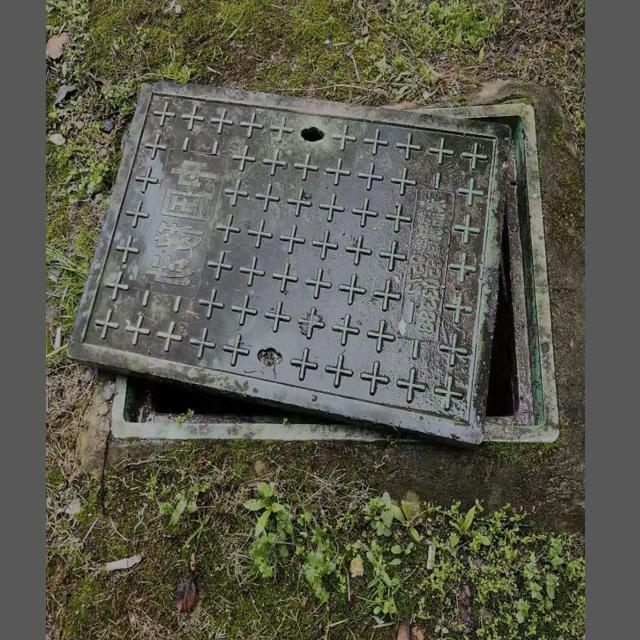uncovered: (64, 78, 564, 443)
